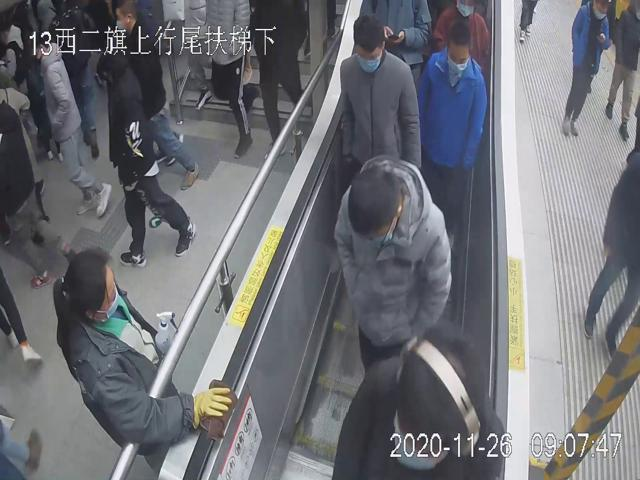person: (51, 248, 231, 450), (335, 154, 451, 371), (93, 40, 196, 264), (32, 28, 113, 219), (339, 11, 422, 192), (416, 19, 485, 233), (560, 0, 610, 139)
